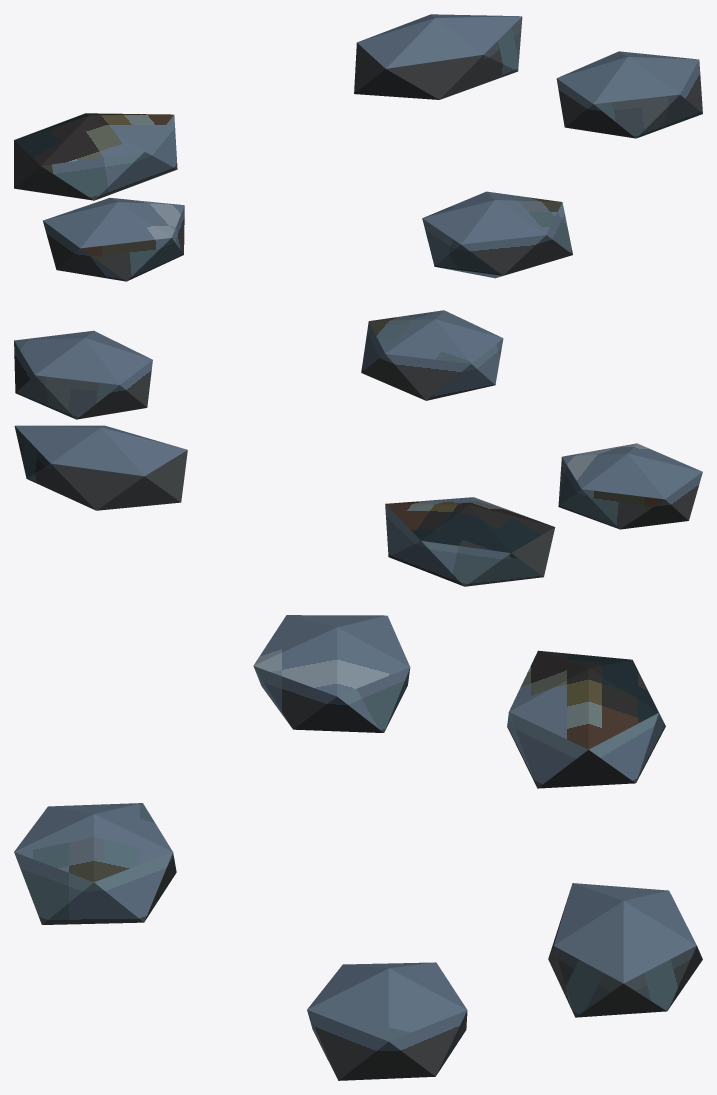
Rendered from enfeite_seixos.glb.
3 renders of one model, top to bottom at view 1: azimuth 30°, elevation 25°; view 2: azimuth 150°, elevation 25°; view 3: azimuth 270°, elevation 25°, orthographic. The views are drawn at different scales.
Parts seen in each view (by area): view 1: pedreira_enfeite_seixos; view 2: pedreira_enfeite_seixos; view 3: pedreira_enfeite_seixos.
Boxes of the visible parts, left/top/right/bottom form: pedreira_enfeite_seixos: left=14, top=14, right=702, bottom=281; pedreira_enfeite_seixos: left=14, top=310, right=702, bottom=586; pedreira_enfeite_seixos: left=14, top=615, right=702, bottom=1080.
Size of the model in its own units: 0.4473 by 0.0523 by 0.3027.
1 material, 1 textured.
